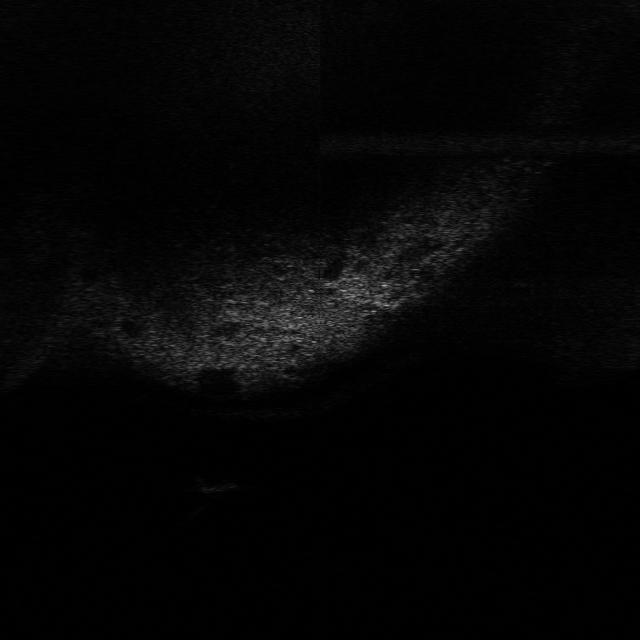cube: (186, 473, 243, 500)
